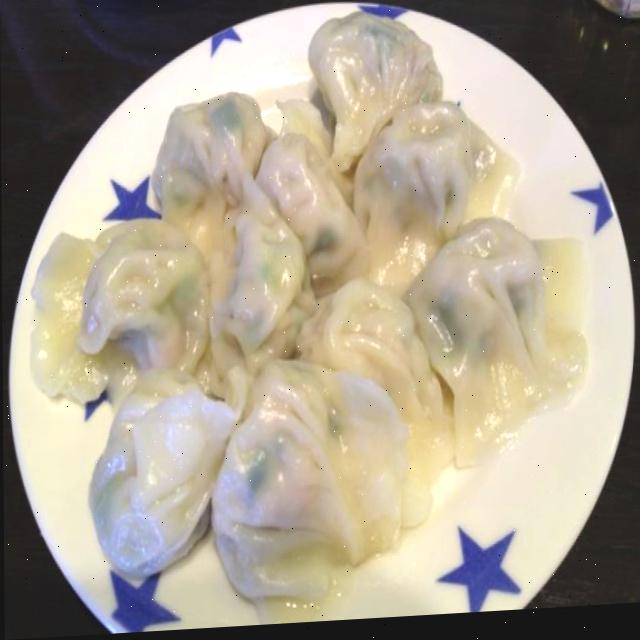带馅早点: (12, 0, 624, 610)
